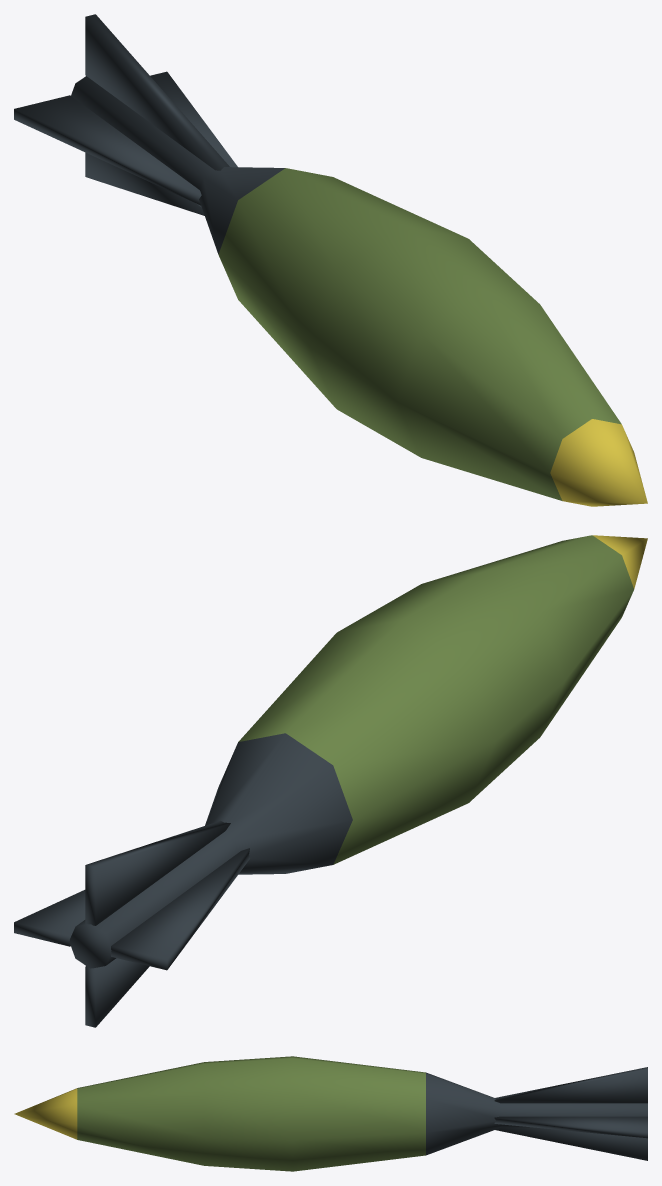
Rendered from mortar_60_projectile_game.glb.
3 views of the same model, one above another, from view 1: azimuth 30°, elevation 25°; view 2: azimuth 150°, elevation 25°; view 3: azimuth 270°, elevation 25° (orthographic). The views are drawn at different scales.
Parts seen in each view (by area): view 1: AMMO_MESH.030; view 2: AMMO_MESH.030; view 3: AMMO_MESH.030.
Part boxes in pixels (x1,y1,x2,y2): AMMO_MESH.030: (14,14,647,506); AMMO_MESH.030: (14,535,647,1027); AMMO_MESH.030: (14,1056,647,1171).
Size of the model in its own units: 0.06 by 0.06 by 0.31.
